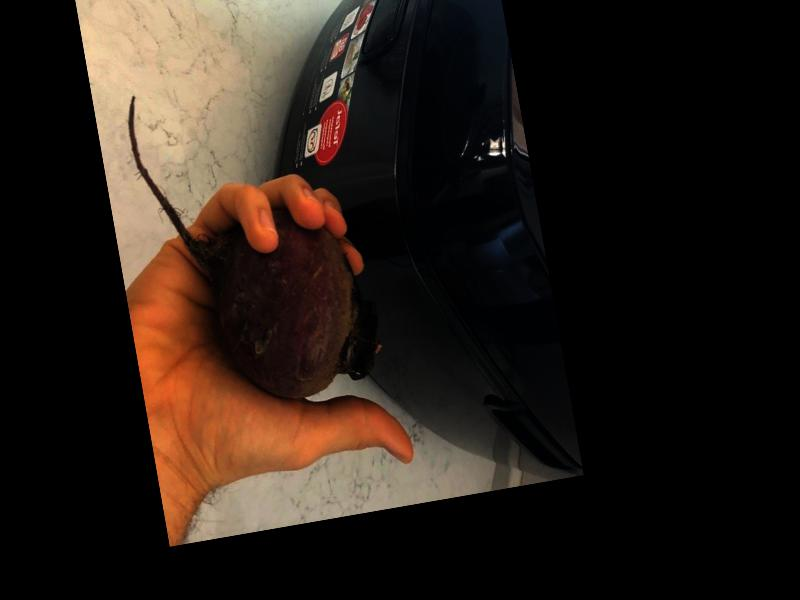Beet: (122, 60, 388, 418)
